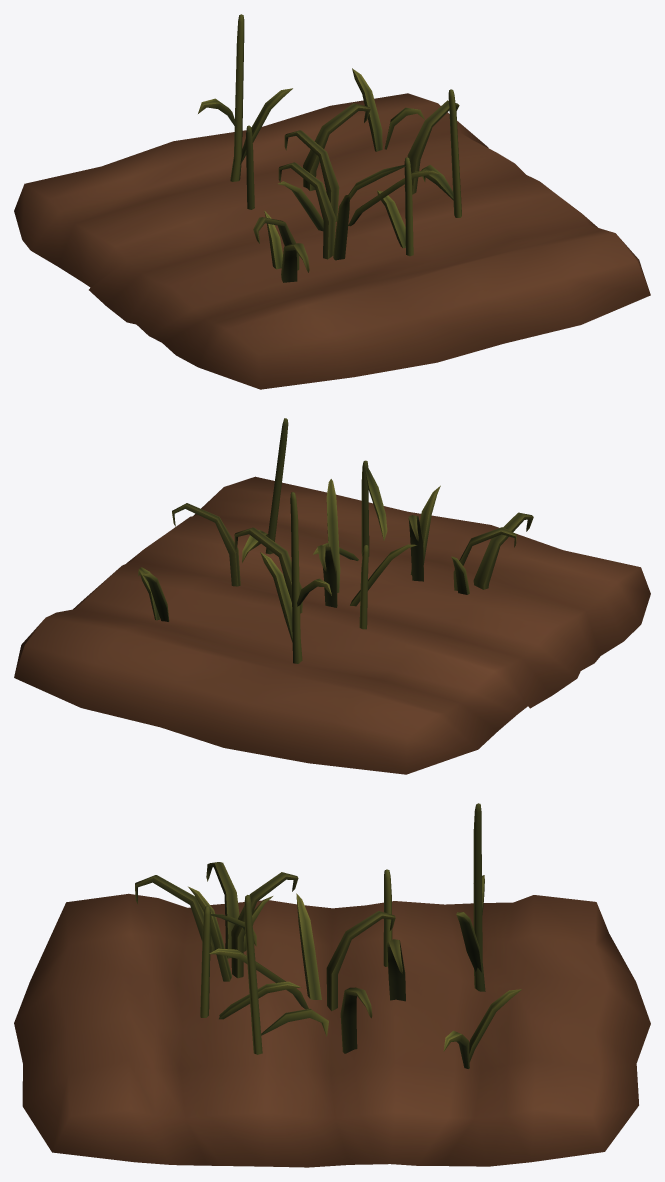
Rendered from SM_PlantSoil_Barley_Dead.fbx.
3 views of the same model, one above another, from view 1: azimuth 30°, elevation 25°; view 2: azimuth 150°, elevation 25°; view 3: azimuth 270°, elevation 25° (orthographic). The views are drawn at different scales.
Parts seen in each view (by area): view 1: SM_PlantSoil_Barley_Dead; view 2: SM_PlantSoil_Barley_Dead; view 3: SM_PlantSoil_Barley_Dead.
Boxes of the visible parts, <box> form: SM_PlantSoil_Barley_Dead: <box>14,14,650,389</box>; SM_PlantSoil_Barley_Dead: <box>14,418,650,774</box>; SM_PlantSoil_Barley_Dead: <box>14,803,650,1167</box>.
Bounding box in the file's own units: 96.14 × 40.57 × 103.
